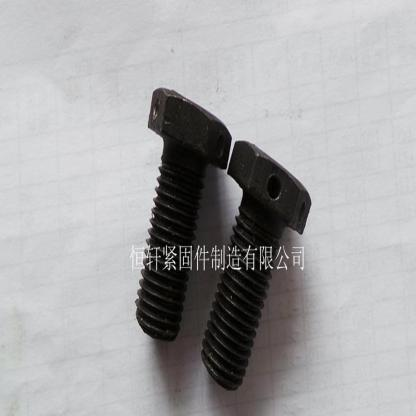FOD: (198, 136, 313, 395), (132, 83, 232, 347)
